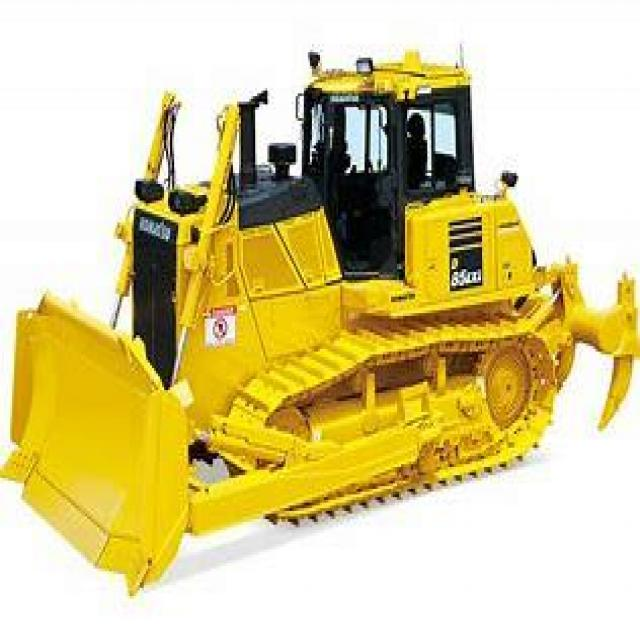Bulldozer: (18, 41, 638, 588)
